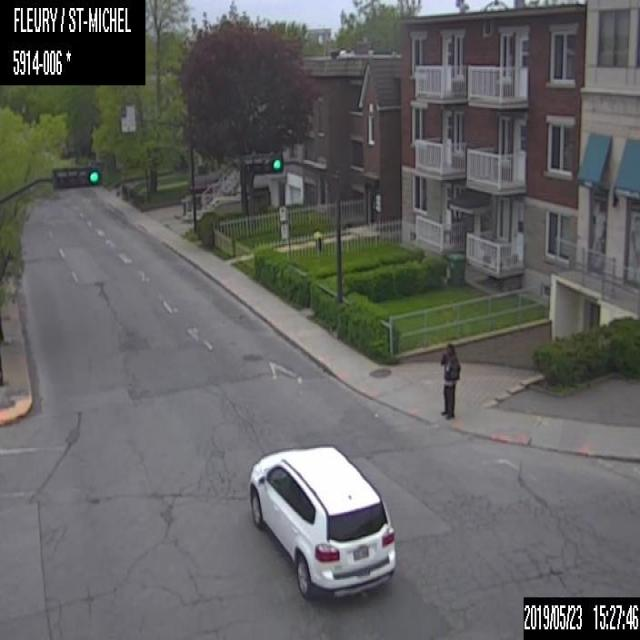pedestrian: (438, 341, 461, 419)
vehicle: (247, 442, 395, 598)
